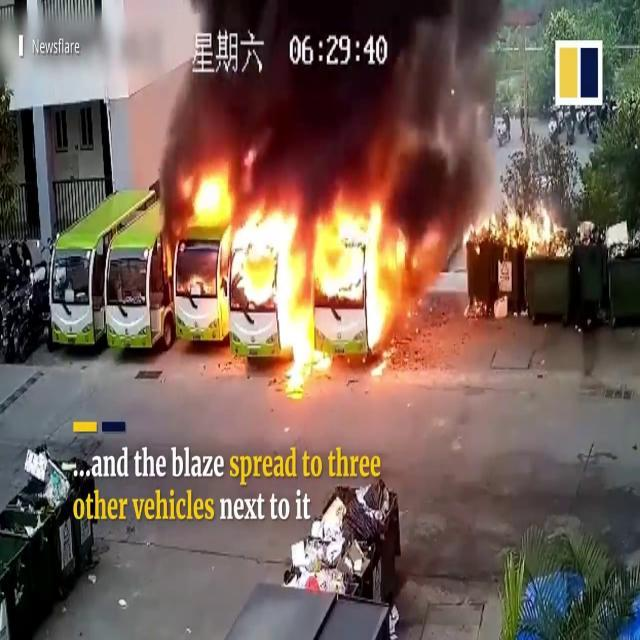Fire: (210, 167, 416, 380), (476, 188, 573, 252)
Smoke: (125, 0, 502, 221)
